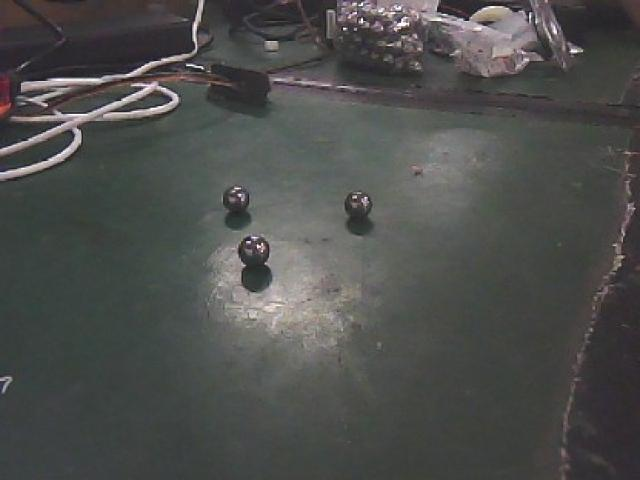steel-ball: (323, 174, 380, 223), (232, 229, 286, 276), (215, 171, 252, 217)
